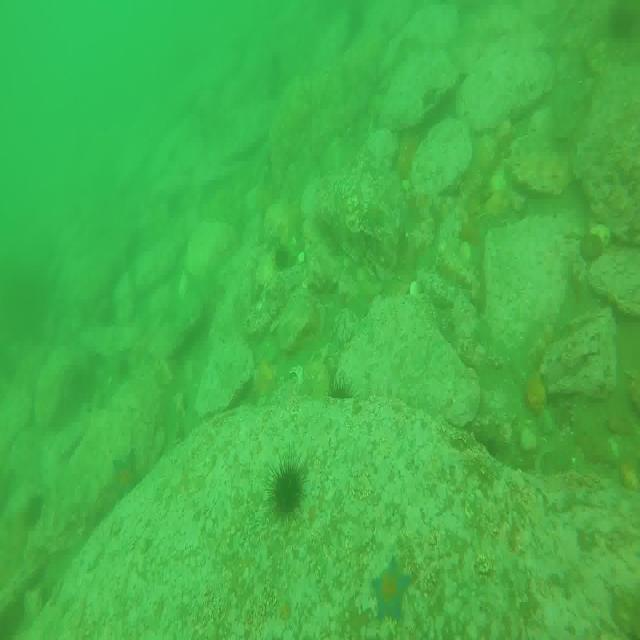echinus: (265, 449, 308, 523), (325, 375, 359, 421), (272, 240, 289, 268)
starfish: (370, 556, 412, 622), (106, 450, 142, 506)
